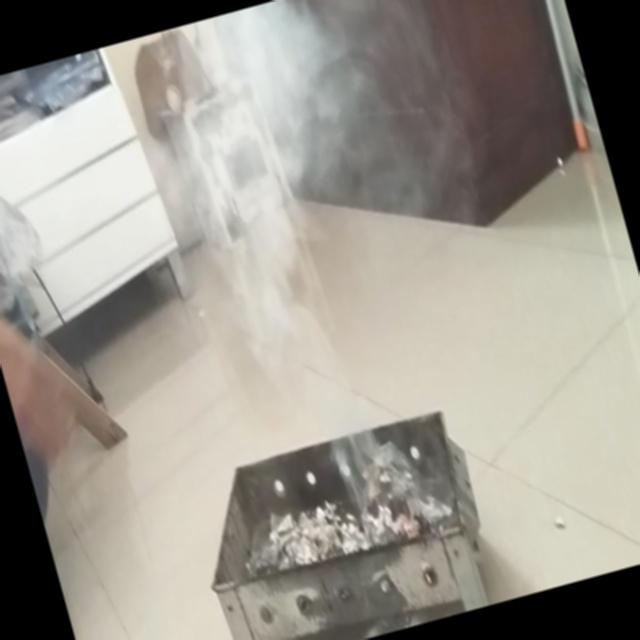smoke: (131, 0, 403, 357)
